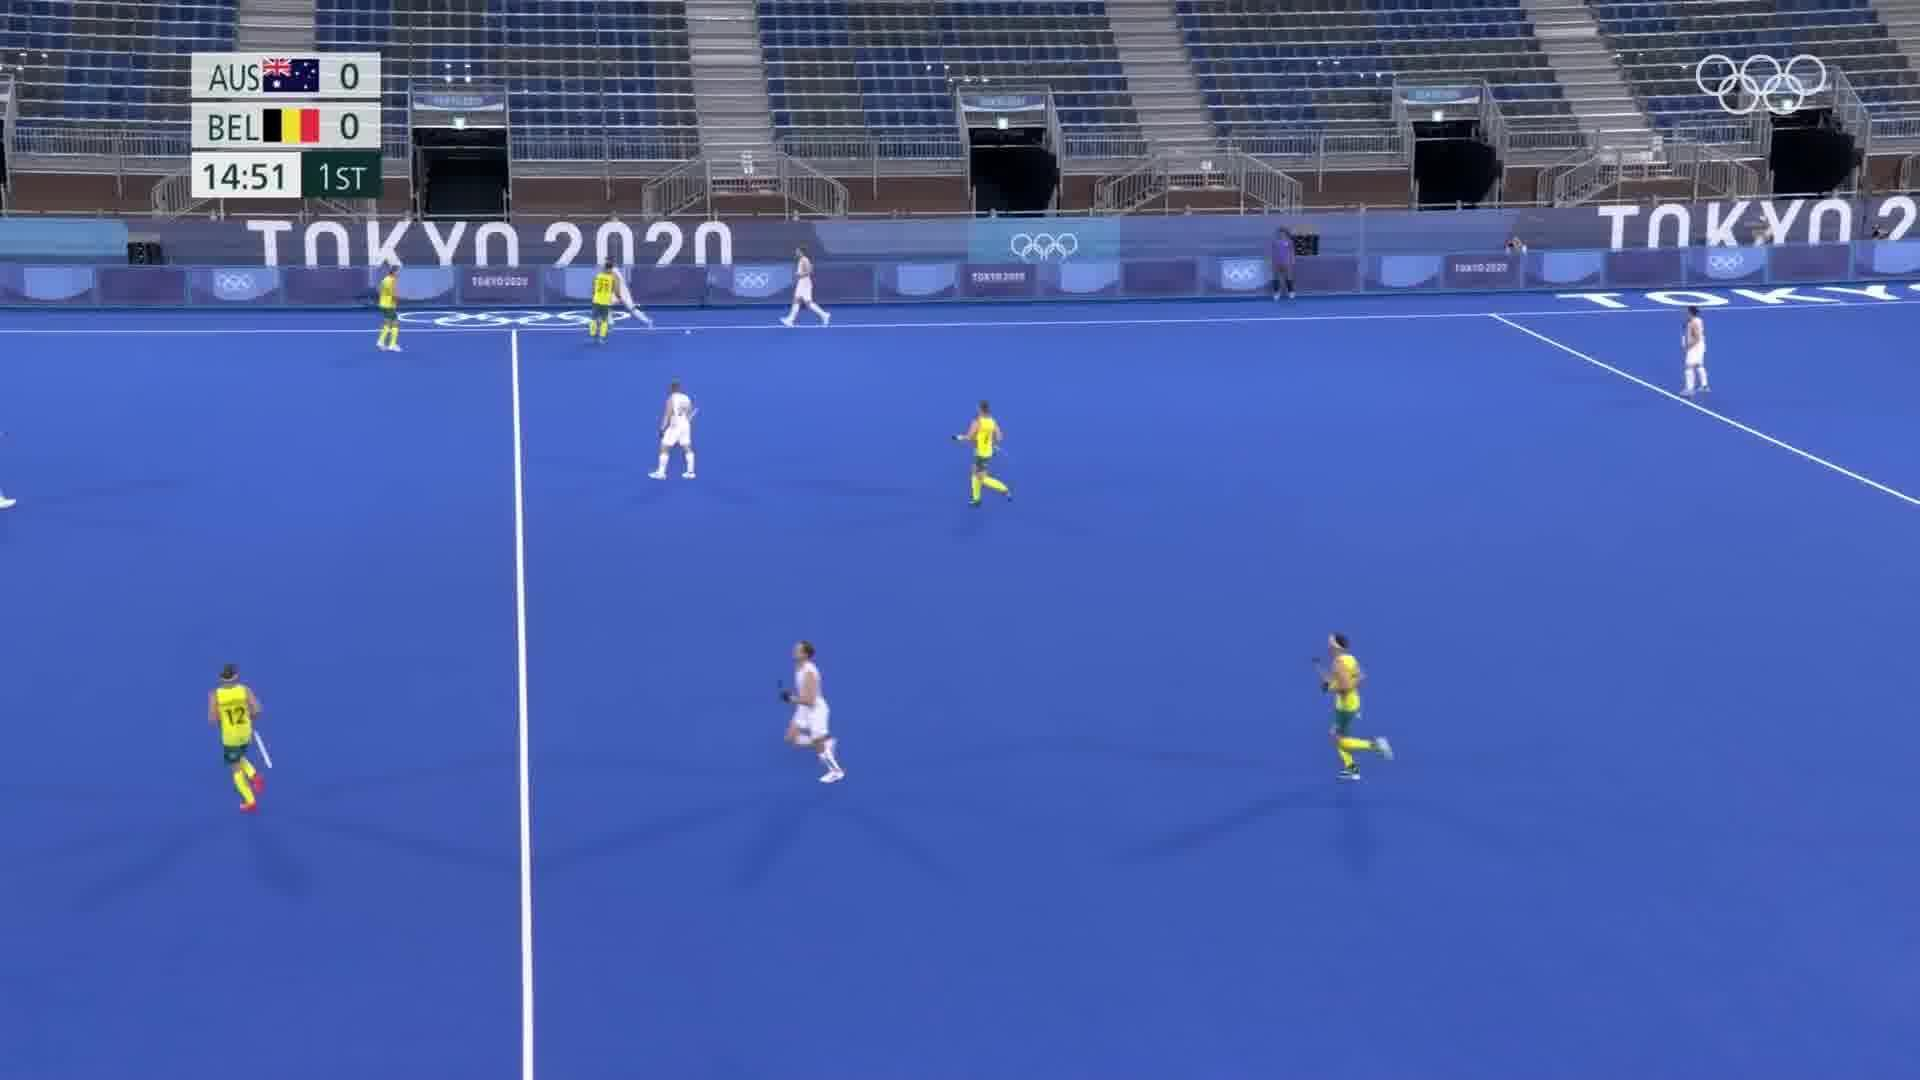ball: (682, 328, 698, 339)
